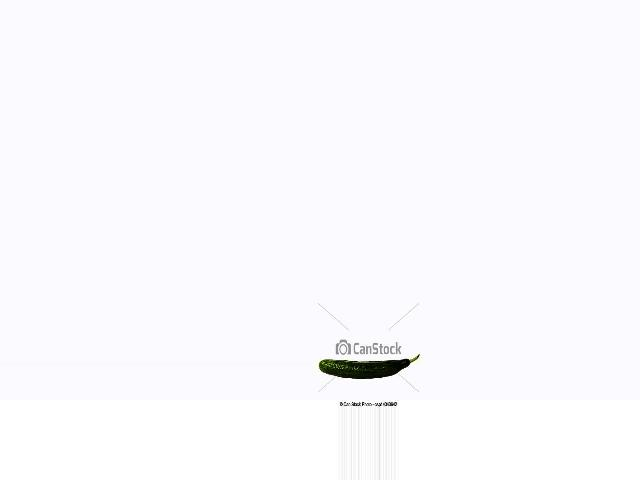cucumber: (319, 355, 420, 379)
